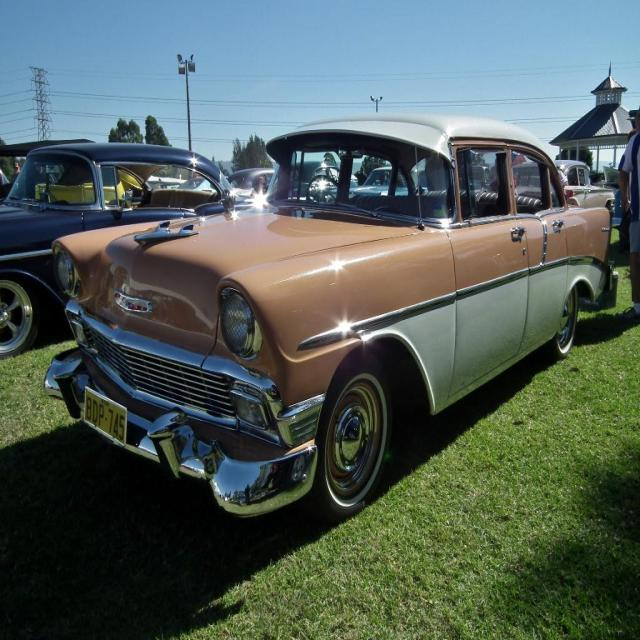car: (43, 112, 617, 513)
